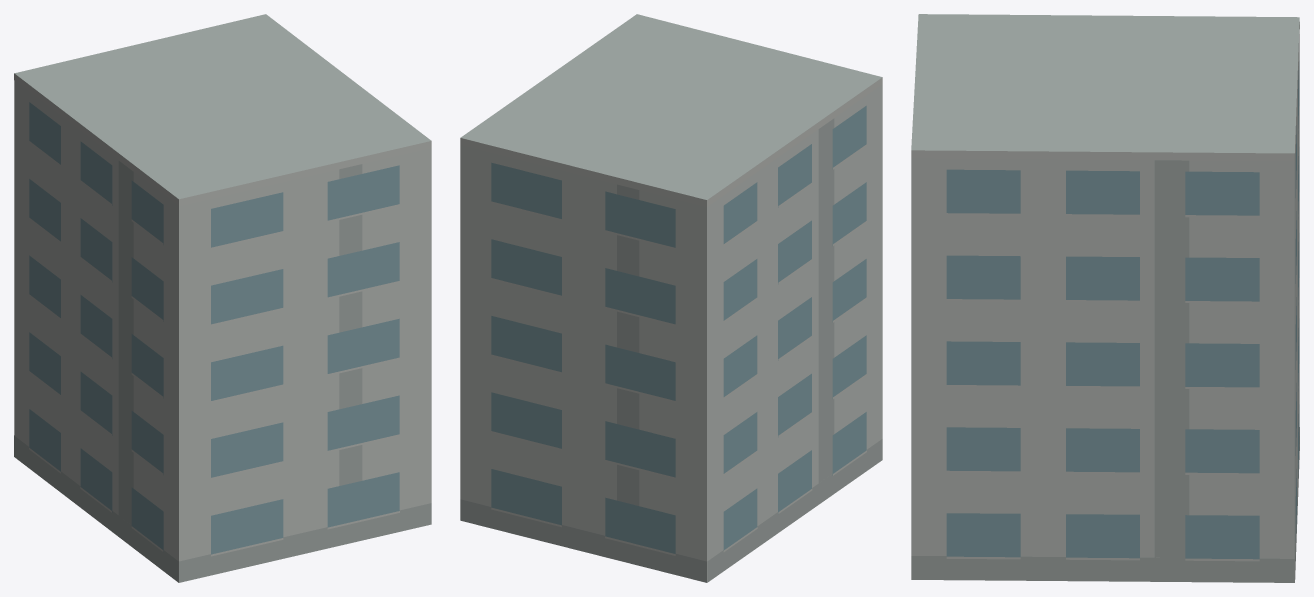
The model's file is survey-upis-32629502.glb.
The picture shows the model from 3 angles, left to right: view 1: azimuth 30°, elevation 25°; view 2: azimuth 150°, elevation 25°; view 3: azimuth 270°, elevation 25°; orthographic projection. The views are drawn at different scales.
Visible parts, largest first — view 1: survey-upis-32629502.tmp; view 2: survey-upis-32629502.tmp; view 3: survey-upis-32629502.tmp.
Part boxes in pixels (x1,y1,x2,y2): survey-upis-32629502.tmp: (14, 14, 431, 582); survey-upis-32629502.tmp: (460, 14, 882, 582); survey-upis-32629502.tmp: (911, 14, 1299, 582).
Bounding box in the file's own units: 9.17 × 13.15 × 10.8.
